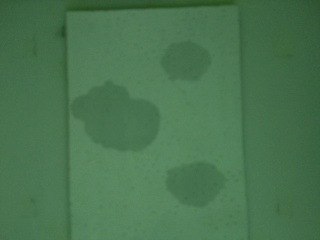Water_detected: (84, 99, 159, 144), (178, 171, 217, 196), (168, 49, 195, 85)
